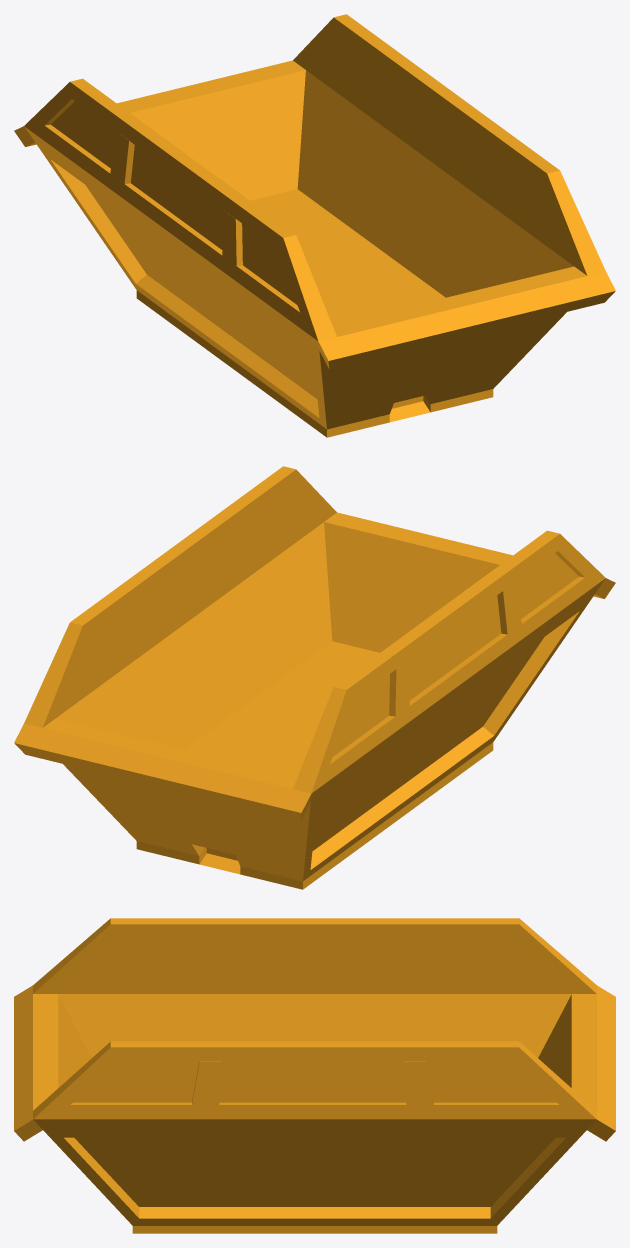
File: LowPolySkip.fbx
3 views of the same model, one above another, from view 1: azimuth 30°, elevation 25°; view 2: azimuth 150°, elevation 25°; view 3: azimuth 270°, elevation 25° (orthographic). The views are drawn at different scales.
Visible parts, largest first — view 1: Box001; view 2: Box001; view 3: Box001.
Part boxes in pixels (x1,y1,x2,y2): Box001: [14, 14, 615, 437]; Box001: [14, 466, 615, 889]; Box001: [14, 918, 615, 1233].
Bounding box in the file's own units: 41.4 × 78.47 × 30.5.
